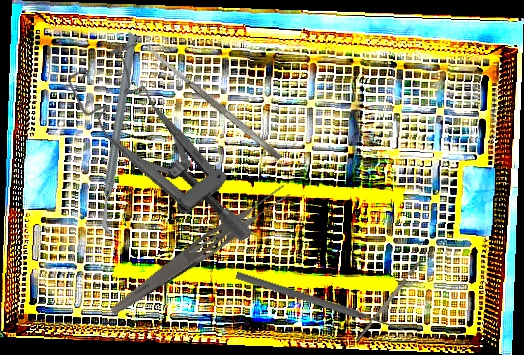Chopper: (31, 30, 211, 238), (351, 246, 432, 342)
Dressing Forceps: (107, 179, 294, 324)
Pusher: (234, 270, 406, 335)
Spatula Surgical: (146, 45, 284, 162)
Speculum: (62, 28, 257, 280)
